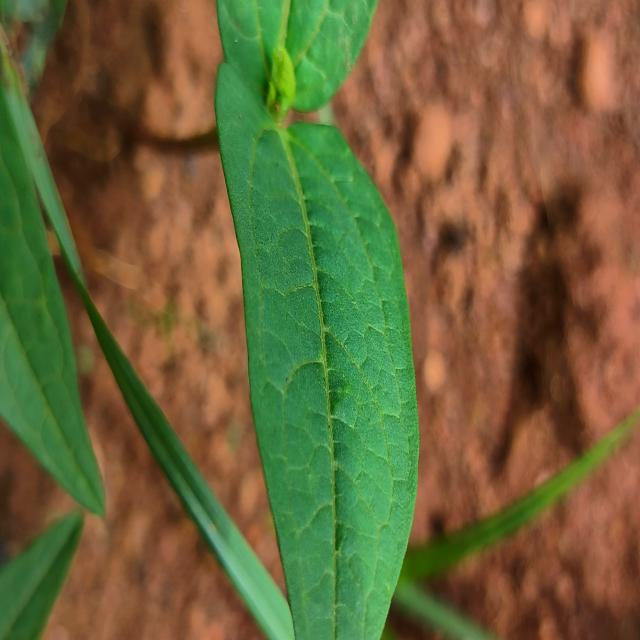Black gram_healthy: (218, 58, 420, 640)
